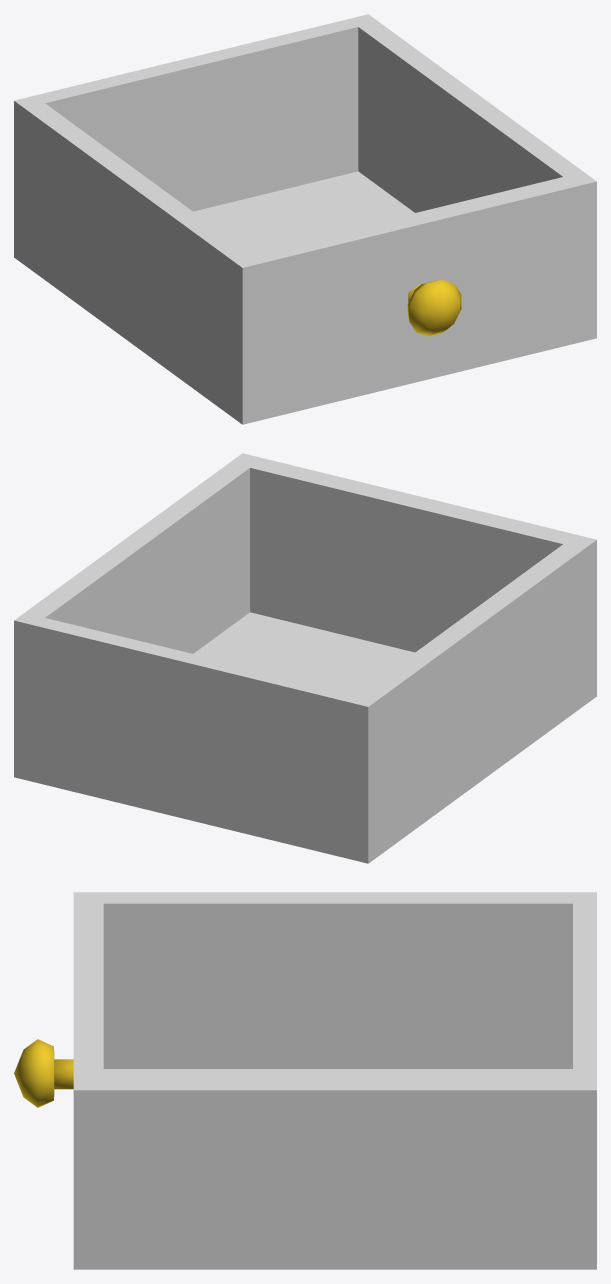
File: counter_drawer.glb
3 views of the same model, one above another, from view 1: azimuth 30°, elevation 25°; view 2: azimuth 150°, elevation 25°; view 3: azimuth 270°, elevation 25° (orthographic). The views are drawn at different scales.
Visible parts, largest first — view 1: Counter Drawer; view 2: Counter Drawer; view 3: Counter Drawer.
Part boxes in pixels (x1=…): Counter Drawer: x1=14, y1=14, x2=596, y2=424; Counter Drawer: x1=14, y1=453, x2=596, y2=863; Counter Drawer: x1=14, y1=892, x2=596, y2=1269.
Bounding box in the file's own units: 0.4552 × 0.1925 × 0.5664.
1 material, 1 textured.
